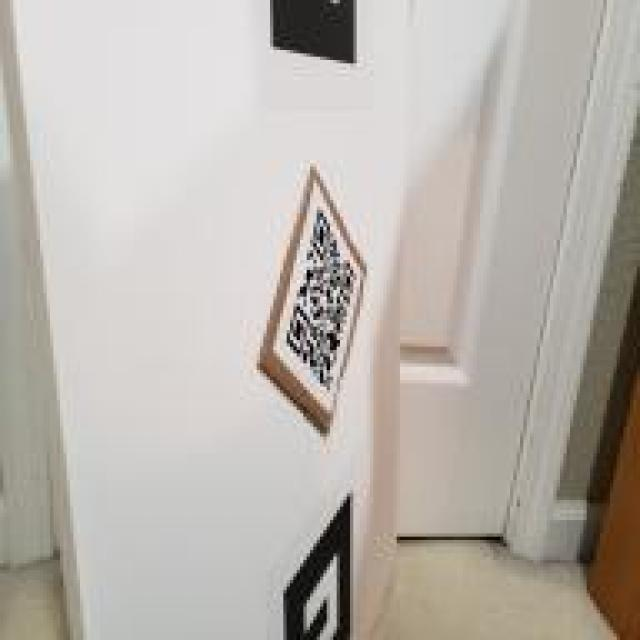qr_code: (286, 206, 359, 394)
